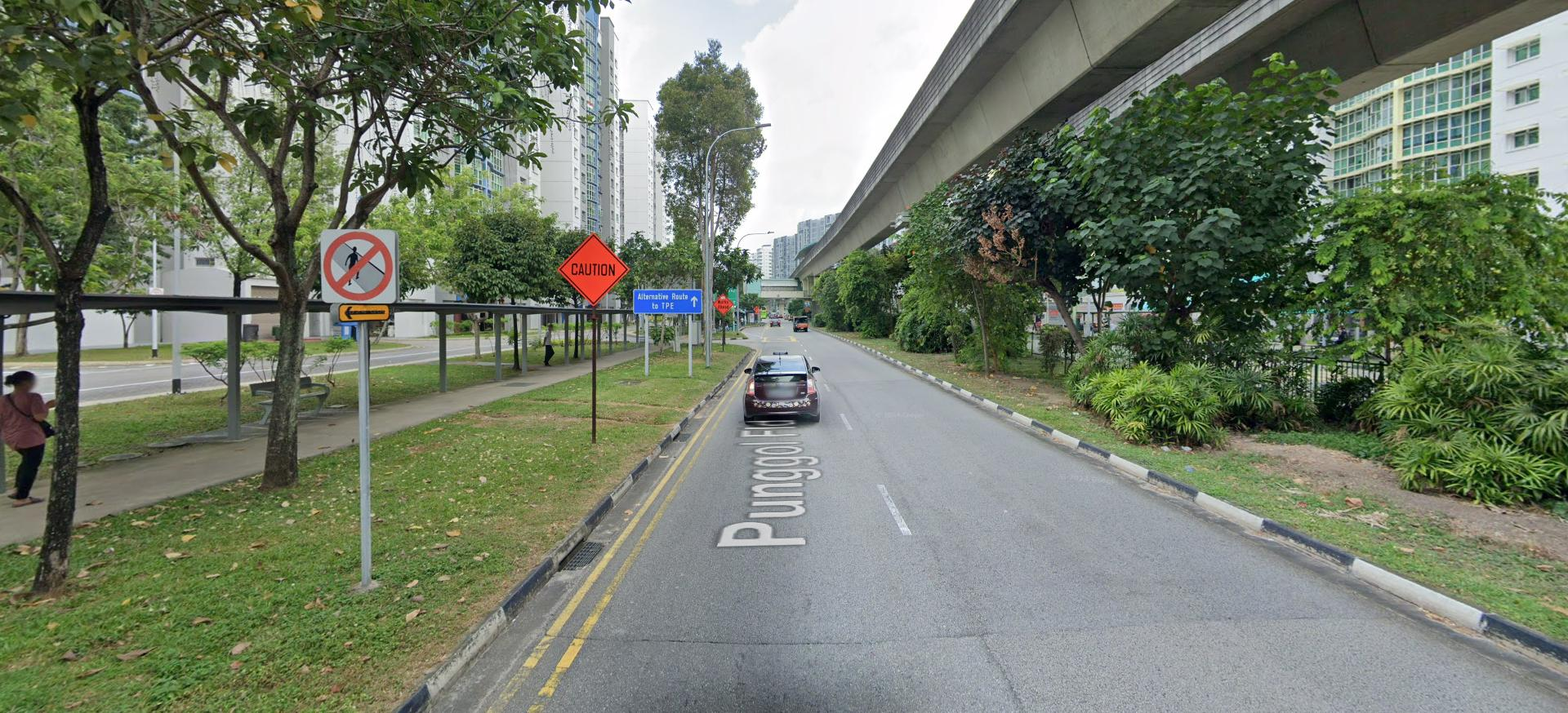defect: (560, 541, 608, 576)
